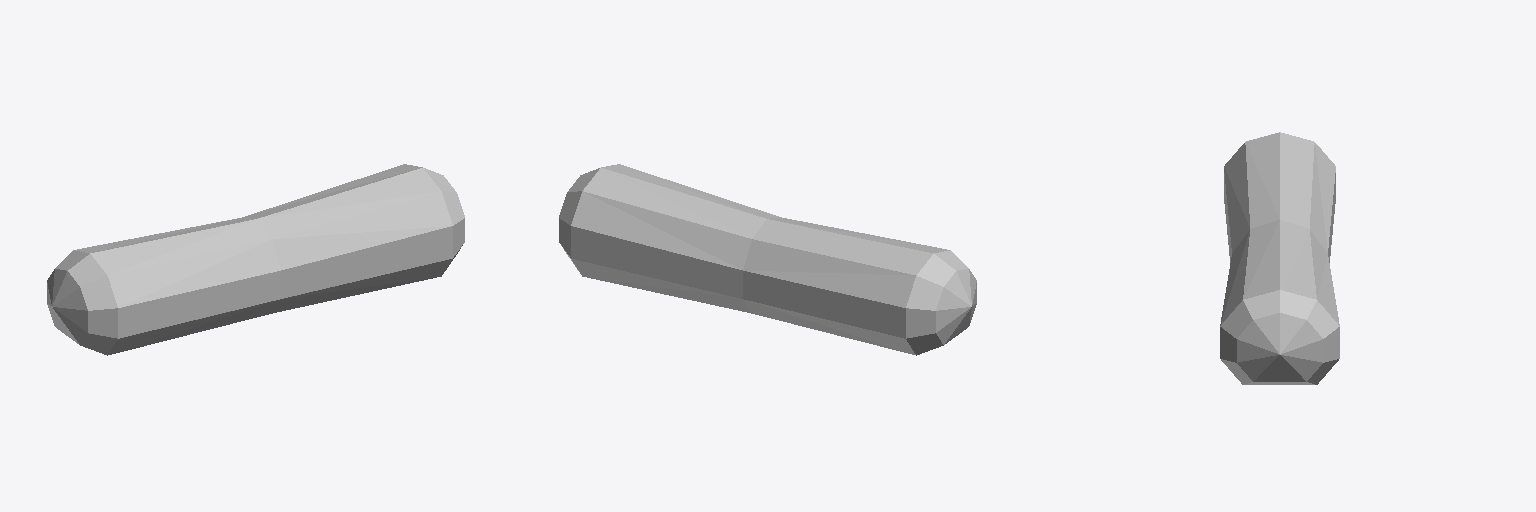
Rendered from Eclair_Chocolate.OBJ.
3 views of the same model, side by side, from view 1: azimuth 30°, elevation 25°; view 2: azimuth 150°, elevation 25°; view 3: azimuth 270°, elevation 25° (orthographic).
Size of the model in its own units: 0.1333 by 0.0298 by 0.0339.